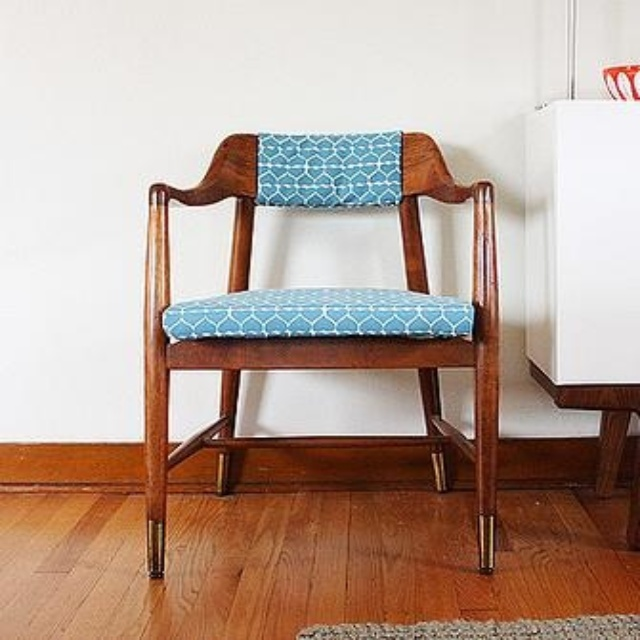obstacle: (145, 132, 497, 577)
